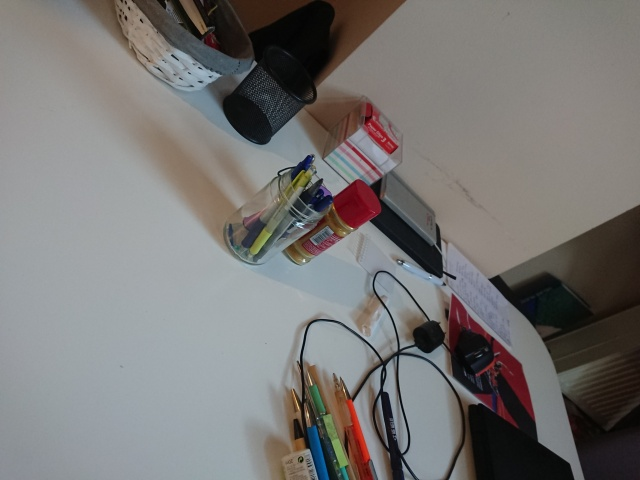Kotanyi Curry Spices Mix 70g: (280, 176, 384, 270)
